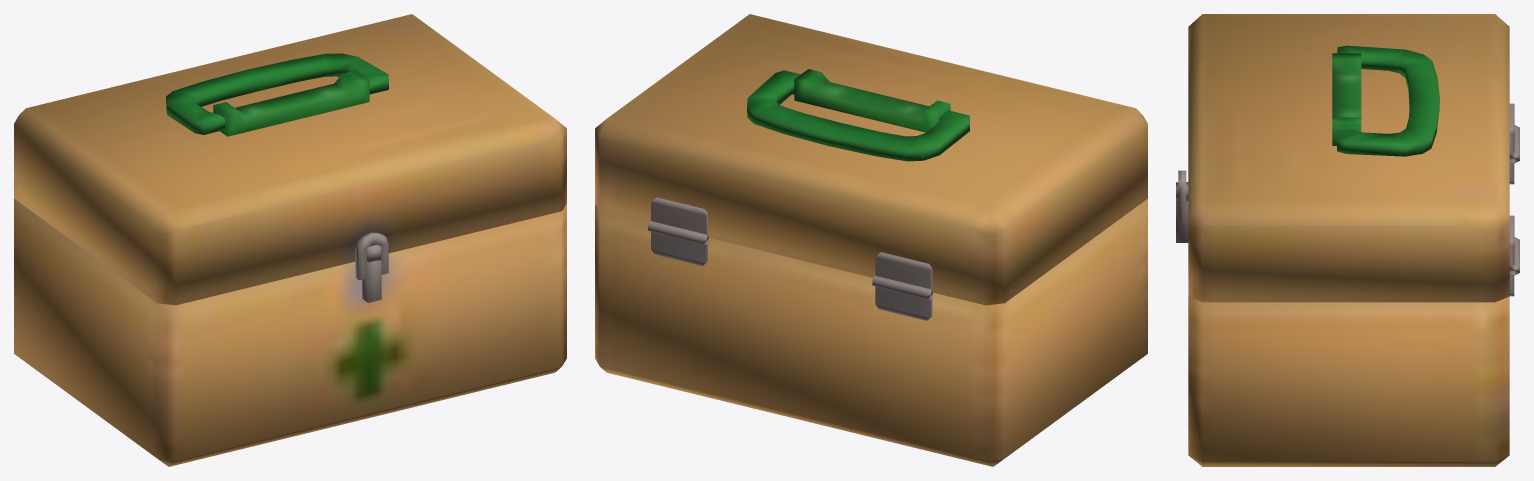
The picture shows the model from 3 angles, left to right: view 1: azimuth 30°, elevation 25°; view 2: azimuth 150°, elevation 25°; view 3: azimuth 270°, elevation 25°; orthographic projection. The views are drawn at different scales.
Bounding box in the file's own units: 6.43 × 4.13 × 4.57.
1 material, 1 textured.
